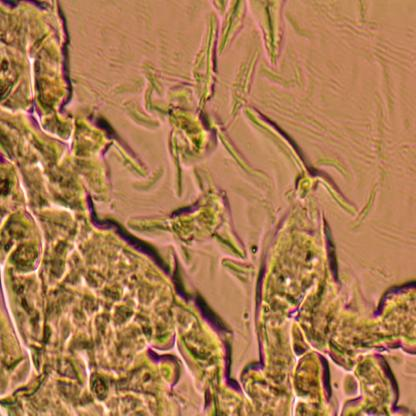Normal: (0, 230, 416, 416), (0, 0, 177, 416)
